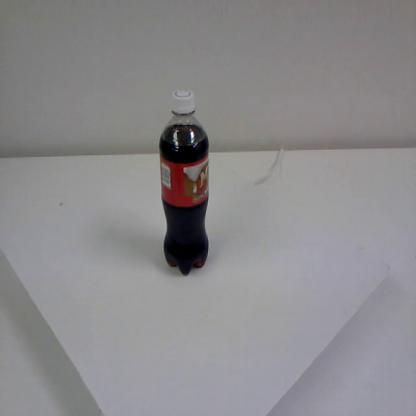bottle: (157, 87, 211, 277)
